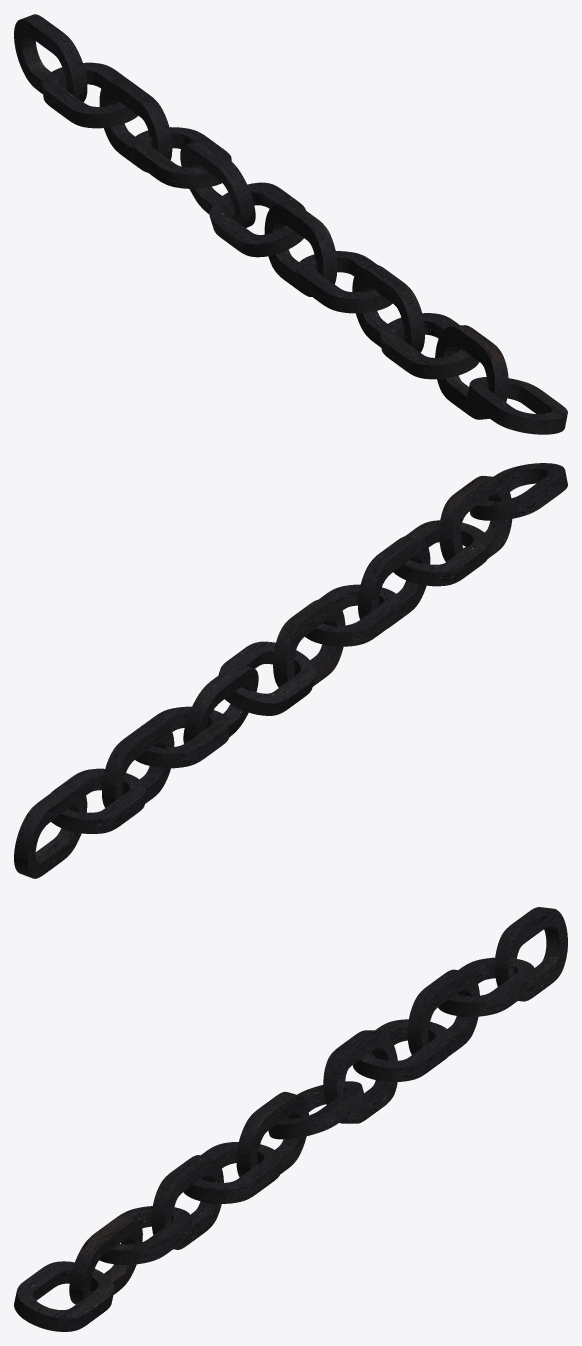
Rendered from b_chain.obj.
3 renders of one model, top to bottom at view 1: azimuth 30°, elevation 25°; view 2: azimuth 150°, elevation 25°; view 3: azimuth 330°, elevation 25°, orthographic.
Parts seen in each view (by area): view 1: chain; view 2: chain; view 3: chain.
Part boxes in pixels (bbox=[...]): chain: bbox=[14, 14, 567, 434]; chain: bbox=[14, 463, 567, 878]; chain: bbox=[14, 907, 567, 1331].
Bounding box in the file's own units: 0.5351 × 0.4959 × 6.61.
1 material, 1 textured.
